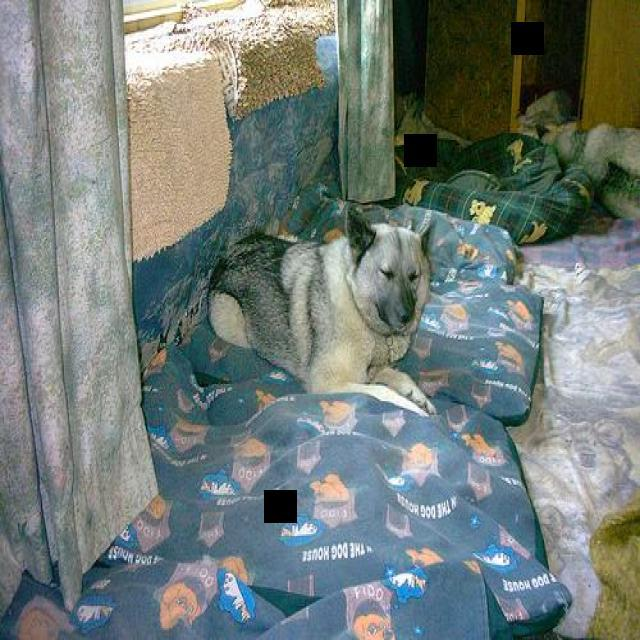adult_dog: (155, 197, 439, 417)
